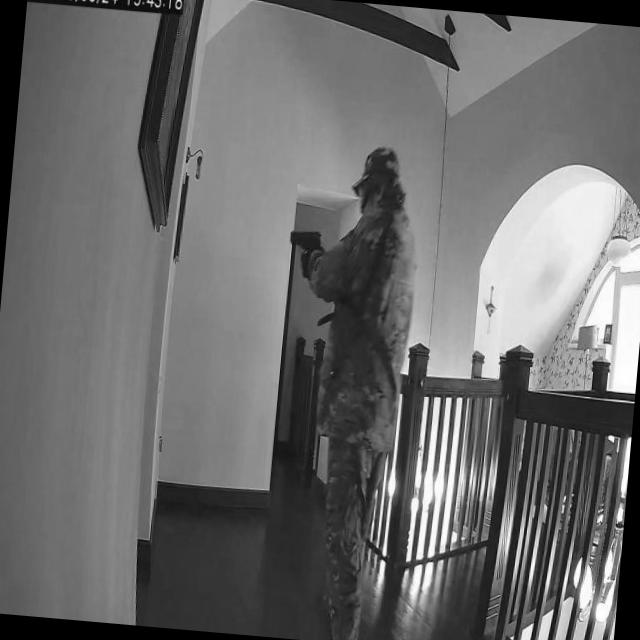gun: (288, 226, 324, 258)
person with a gun: (256, 137, 424, 640)
